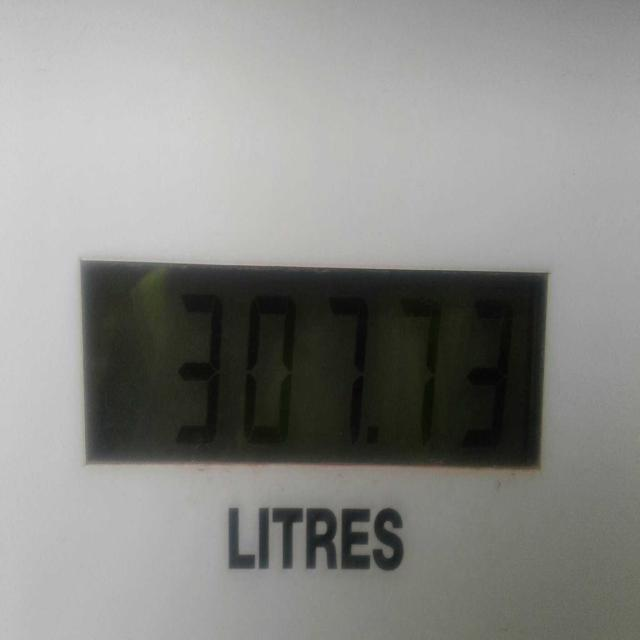.: (360, 419, 382, 461)
0: (231, 277, 306, 457)
3: (453, 282, 521, 484), (167, 278, 232, 452)
7: (388, 280, 452, 476), (312, 297, 380, 464)
